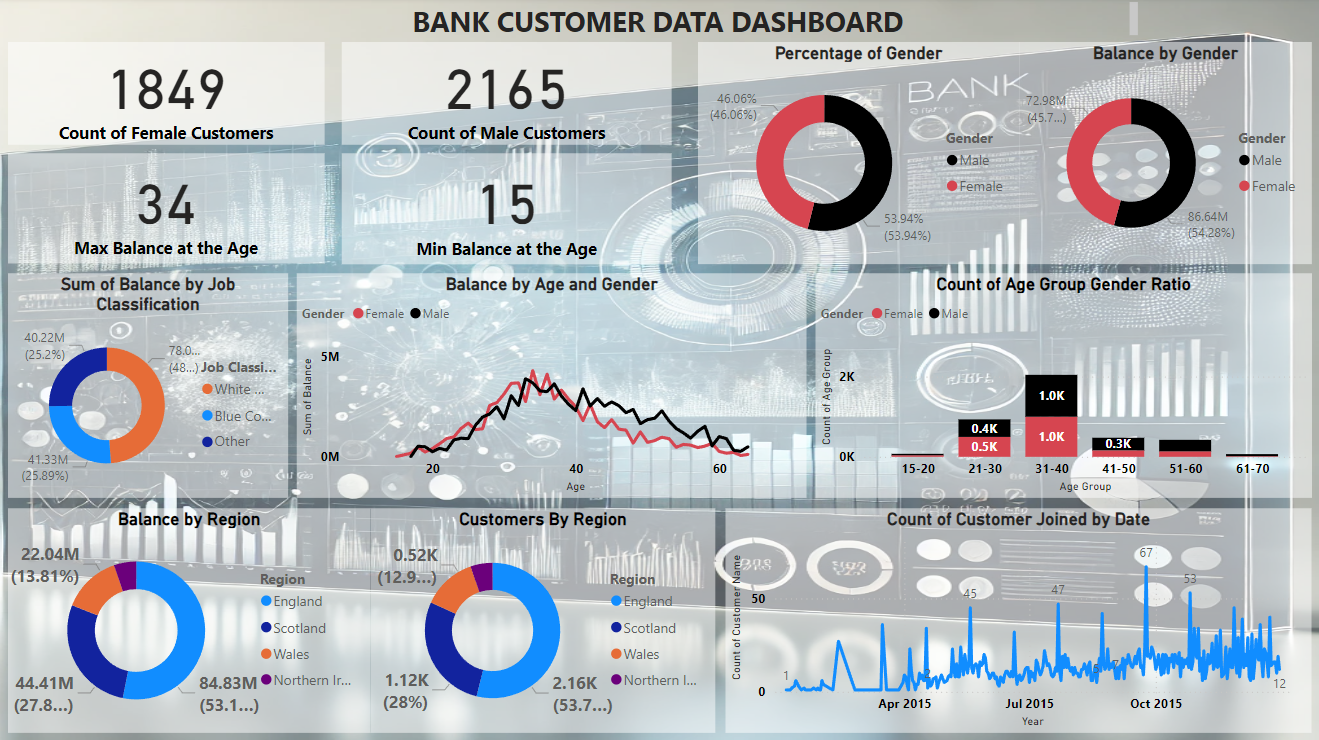

The dashboard page shown, as its layout file describes it:
{"tool":"powerbi","page":{"name":"Dashboard","canvas":[1280,720],"ordinal":3},"visuals":[{"type":"lineChart","title":"Balance by Age and Gender","fields":{"Category":["Bank Customer (UK).Age"],"Series":["Bank Customer (UK).Gender"],"Y":["Sum(Bank Customer (UK).Balance)"]},"box":[288.3,266.6,492.2,217.2],"z":0},{"type":"columnChart","title":"Count of Age Group Gender Ratio","fields":{"Category":["Bank Customer (UK).Age Group"],"Y":["CountNonNull(Bank Customer (UK).Age Group)"],"Series":["Bank Customer (UK).Gender"]},"box":[789,266.6,479,217.2],"z":1000},{"type":"lineChart","title":"Count of Customer Joined by Date","fields":{"Category":["Bank Customer (UK).Date Joined.Variation.Date Hierarchy.Year","Bank Customer (UK).Date Joined.Variation.Date Hierarchy.Quarter","Bank Customer (UK).Date Joined.Variation.Date Hierarchy.Month","Bank Customer (UK).Date Joined.Variation.Date Hierarchy.Day"],"Y":["CountNonNull(Bank Customer (UK).Customer Name)"]},"box":[702.1,493.4,565.8,217.2],"z":2000},{"type":"donutChart","title":"Balance by Region","fields":{"Y":["Sum(Bank Customer (UK).Balance)"],"Category":["Bank Customer (UK).Region"]},"box":[9.7,493.4,349.9,217.2],"z":3000},{"type":"donutChart","title":"Customers By Region","fields":{"Category":["Bank Customer (UK).Region"],"Y":["CountNonNull(Bank Customer (UK).Region)"]},"box":[359.5,493.4,333,217.2],"z":4000},{"type":"donutChart","fields":{"Category":["Bank Customer (UK).Job Classification"],"Y":["Sum(Bank Customer (UK).Balance)"]},"box":[9.7,266.6,270.2,217.2],"z":5000},{"type":"donutChart","title":"Percentage of Gender","fields":{"Category":["Bank Customer (UK).Gender"],"Y":["CountNonNull(Bank Customer (UK).Gender)"]},"box":[675.6,43.4,310.1,214.7],"z":6000},{"type":"donutChart","title":"Balance by Gender","fields":{"Category":["Bank Customer (UK).Gender"],"Y":["Sum(Bank Customer (UK).Balance)"]},"box":[985.7,43.4,282.3,214.7],"z":7000},{"type":"card","fields":{"Values":["Max(Bank Customer (UK).Age)"]},"box":[9.7,150.8,305.2,106.2],"z":8000},{"type":"card","fields":{"Values":["Min(Bank Customer (UK).Age)"]},"box":[331.8,150.8,318.5,107.4],"z":9000},{"type":"card","fields":{"Values":["CountNonNull(Bank Customer (UK).Gender)"]},"box":[9.7,43.4,305.2,98.9],"z":10000},{"type":"card","fields":{"Values":["CountNonNull(Bank Customer (UK).Gender)"]},"box":[331.8,43.4,318.5,98.9],"z":11000},{"type":"textbox","box":[176,0,929.1,43.3],"z":12000}]}

Visuals, with their boxes in screenshot pixels (x1, y1, x2, y2), scaled from the page's 1280x720 canvas onto the 1319x740 screenshot:
"Balance by Age and Gender" lineChart: [x1=297, y1=274, x2=804, y2=497]
"Count of Age Group Gender Ratio" columnChart: [x1=813, y1=274, x2=1307, y2=497]
"Count of Customer Joined by Date" lineChart: [x1=723, y1=507, x2=1307, y2=730]
"Balance by Region" donutChart: [x1=10, y1=507, x2=371, y2=730]
"Customers By Region" donutChart: [x1=370, y1=507, x2=714, y2=730]
donutChart - Bank Customer (UK).Job Classification x Sum(Bank Customer (UK).Balance): [x1=10, y1=274, x2=288, y2=497]
"Percentage of Gender" donutChart: [x1=696, y1=45, x2=1016, y2=265]
"Balance by Gender" donutChart: [x1=1016, y1=45, x2=1307, y2=265]
card - Max(Bank Customer (UK).Age): [x1=10, y1=155, x2=324, y2=264]
card - Min(Bank Customer (UK).Age): [x1=342, y1=155, x2=670, y2=265]
card - CountNonNull(Bank Customer (UK).Gender): [x1=10, y1=45, x2=324, y2=146]
card - CountNonNull(Bank Customer (UK).Gender): [x1=342, y1=45, x2=670, y2=146]
textbox: [x1=181, y1=0, x2=1139, y2=45]
